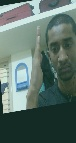hand: (29, 25, 45, 91)
